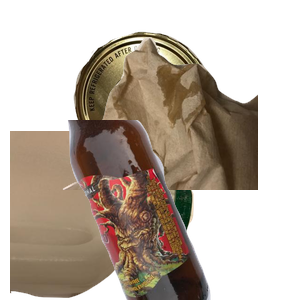glass: (65, 120, 300, 300)
metal: (71, 29, 276, 193)
plastic: (10, 131, 196, 300)
trash: (60, 35, 300, 215)
